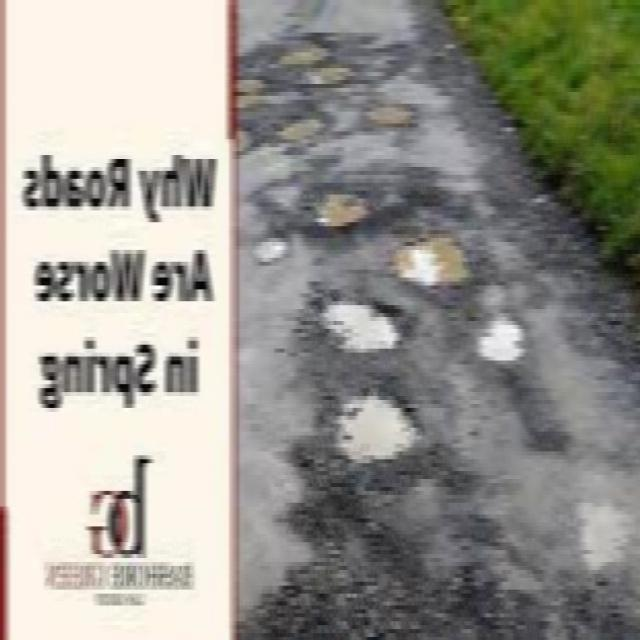Pothole: (321, 383, 437, 477), (296, 290, 414, 359), (388, 222, 484, 293), (461, 314, 541, 376), (300, 177, 380, 238), (265, 102, 338, 149), (348, 99, 434, 130), (270, 33, 331, 73), (219, 71, 277, 112), (294, 56, 355, 88), (254, 228, 293, 268), (228, 120, 252, 158)
